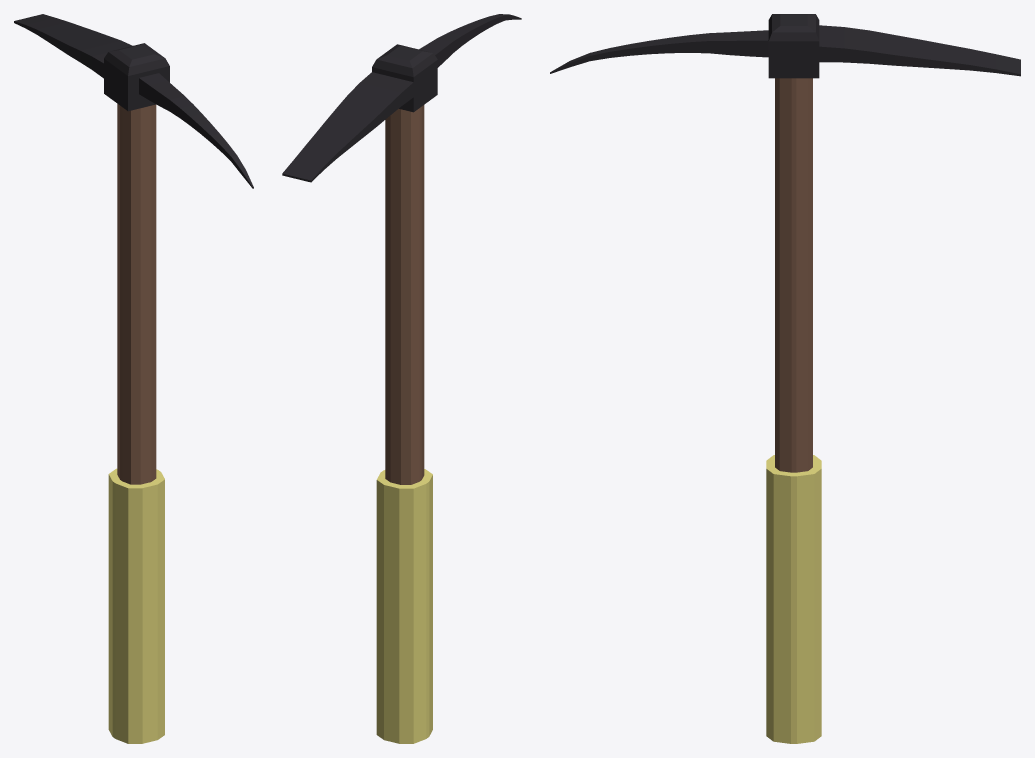
The model's file is pick.fbx.
The picture shows the model from 3 angles, left to right: view 1: azimuth 30°, elevation 25°; view 2: azimuth 150°, elevation 25°; view 3: azimuth 270°, elevation 25°; orthographic projection. The views are drawn at different scales.
Parts seen in each view (by area): view 1: Cube; view 2: Cube; view 3: Cube.
Boxes of the visible parts, left/top/right/bottom form: Cube: left=14, top=14, right=253, bottom=743; Cube: left=282, top=14, right=521, bottom=743; Cube: left=550, top=14, right=1020, bottom=743.
Size of the model in its own units: 61.09 by 866 by 519.
